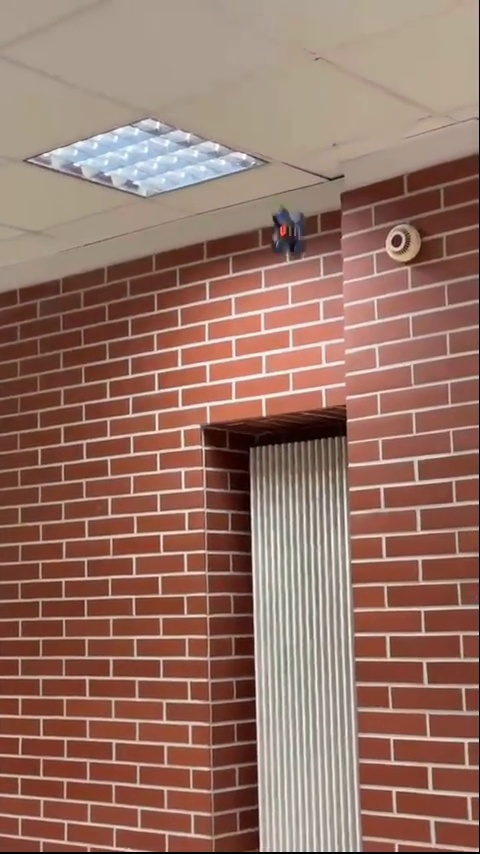drone: (263, 204, 315, 257)
